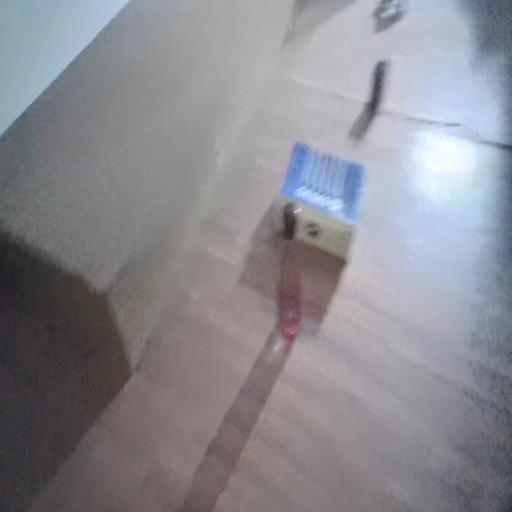Bottle: (274, 190, 317, 360)
